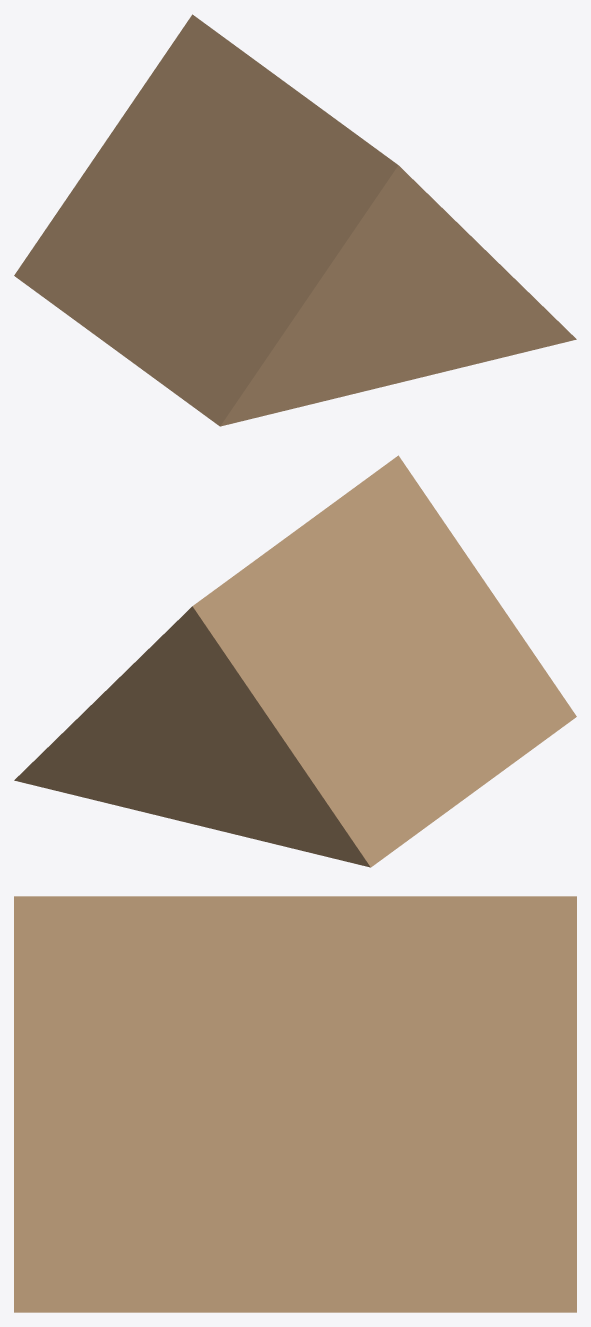
Rendered from wedge.glb.
3 views of the same model, one above another, from view 1: azimuth 30°, elevation 25°; view 2: azimuth 150°, elevation 25°; view 3: azimuth 270°, elevation 25° (orthographic). The views are drawn at different scales.
Parts seen in each view (by area): view 1: wedge; view 2: wedge; view 3: wedge.
Part boxes in pixels (box(x1,y1,x2,y2)): wedge: box(14, 14, 576, 426); wedge: box(14, 455, 576, 867); wedge: box(14, 896, 576, 1312).
Size of the model in its own units: 0.6 by 0.35 by 0.6.
